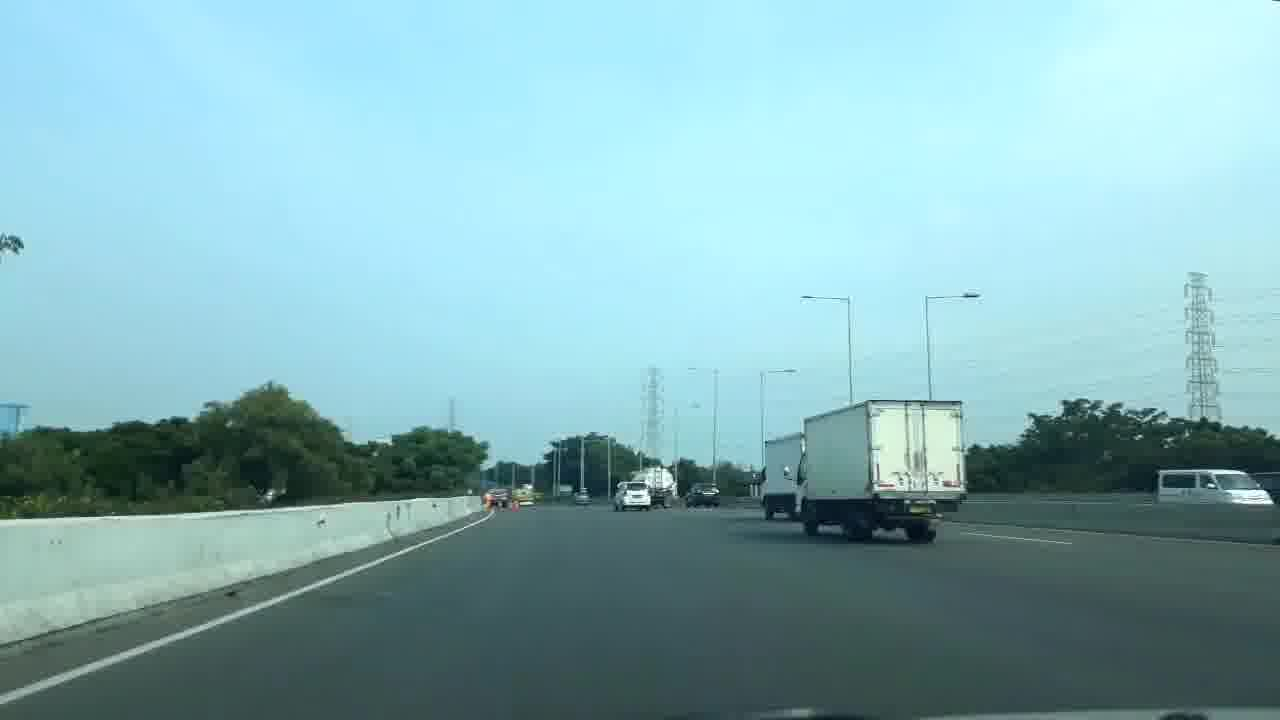plate_positive: (907, 505, 935, 513)
